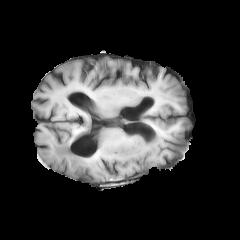glioma: (52, 138, 160, 182)
